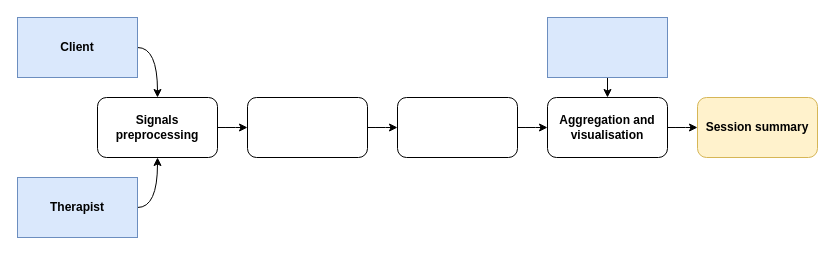
Some shapes in this 835 by 255 pixel diagram are drawn without their labels. The centre of each missing label's shape, as x and y in pixels:
"External data" goes at (607,47).
"Feature extraction" goes at (457,127).
"Voice activity detection" goes at (307,127).
